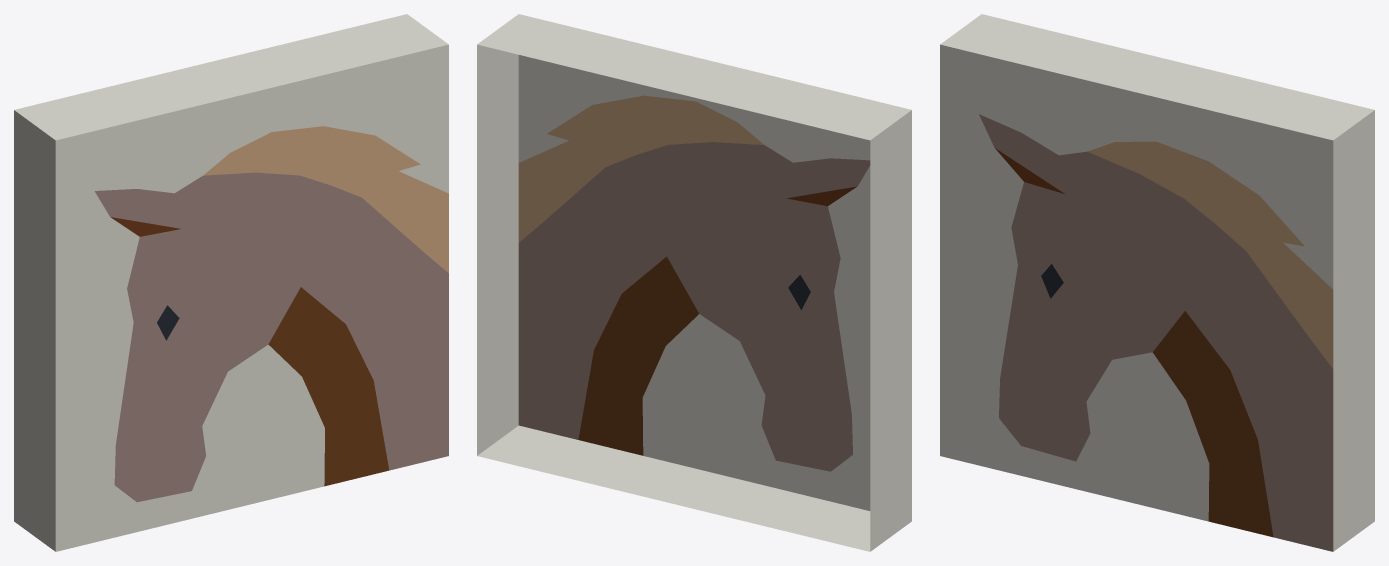
File: SO_picture04.fbx
3 renders of one model, left to right at view 1: azimuth 30°, elevation 25°; view 2: azimuth 150°, elevation 25°; view 3: azimuth 330°, elevation 25°, orthographic.
Parts seen in each view (by area): view 1: SO_pictures04; view 2: SO_pictures04; view 3: SO_pictures04.
Boxes of the visible parts, x1,y1,x2,y2 form: SO_pictures04: (14,14,448,551); SO_pictures04: (477,14,911,551); SO_pictures04: (940,14,1374,551).
Size of the model in its own units: 42.2 by 42.2 by 7.76.
